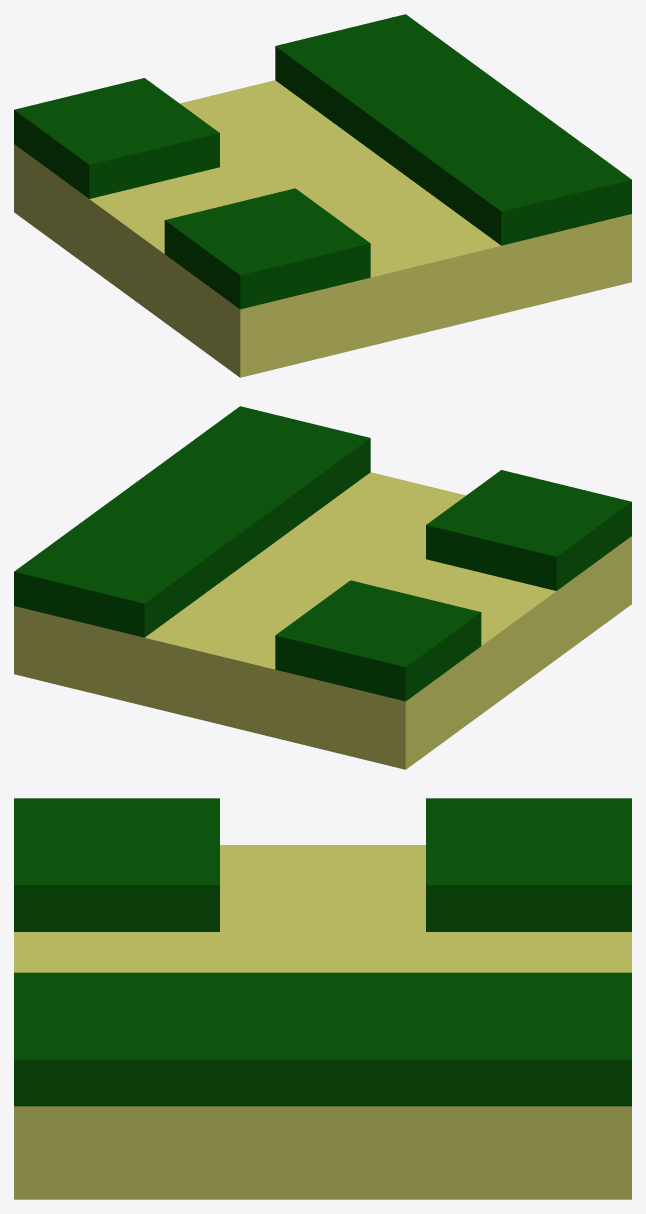
File: StraightRight.fbx
3 renders of one model, top to bottom at view 1: azimuth 30°, elevation 25°; view 2: azimuth 150°, elevation 25°; view 3: azimuth 270°, elevation 25°, orthographic. The views are drawn at different scales.
Parts seen in each view (by area): view 1: Cube; view 2: Cube; view 3: Cube.
Part boxes in pixels (bbox=[...]): Cube: bbox=[14, 14, 631, 377]; Cube: bbox=[14, 406, 631, 769]; Cube: bbox=[14, 798, 631, 1199].
Size of the model in its own units: 1200 by 300 by 1200.
